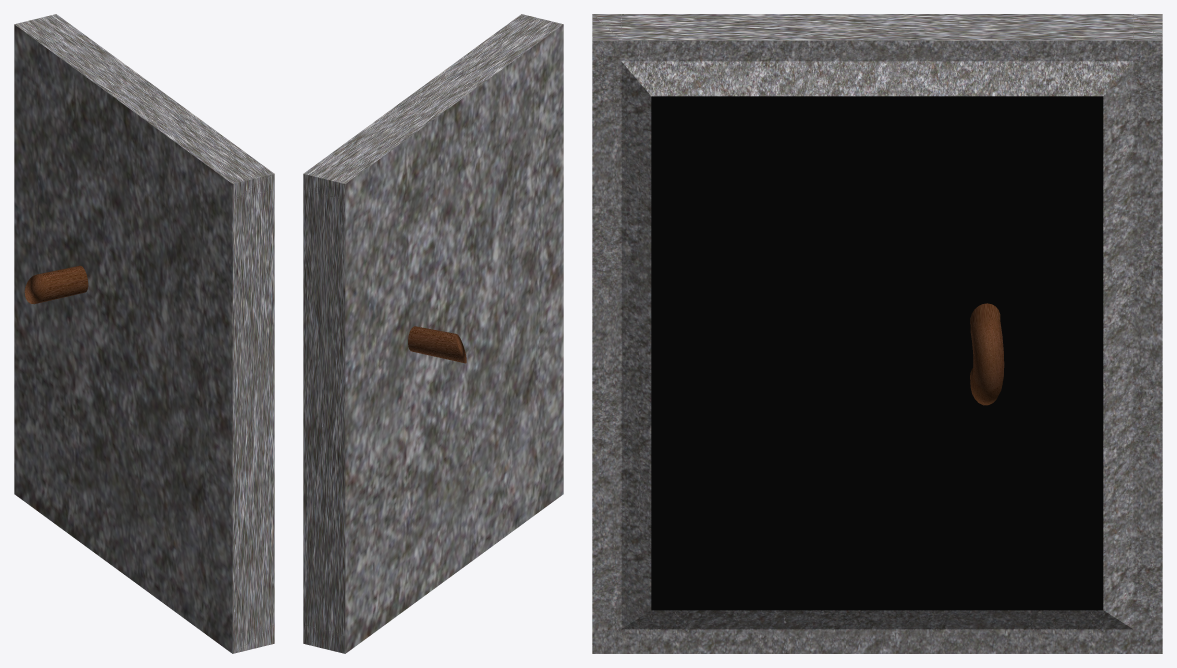
File: Door.fbx
3 views of the same model, side by side, from view 1: azimuth 30°, elevation 25°; view 2: azimuth 150°, elevation 25°; view 3: azimuth 270°, elevation 25° (orthographic). The views are drawn at different scales.
Visible parts, largest first — view 1: pCube20, pTorus1; view 2: pCube20, pTorus1; view 3: pCube20, pTorus1.
Boxes of the visible parts, bbox=[...] form: pCube20: bbox=[14, 14, 274, 653]; pTorus1: bbox=[24, 265, 88, 304]; pCube20: bbox=[303, 14, 563, 653]; pTorus1: bbox=[408, 326, 466, 363]; pCube20: bbox=[592, 14, 1162, 653]; pTorus1: bbox=[970, 303, 1004, 405].
Size of the model in its own units: 16.77 by 50.01 by 42.14.
